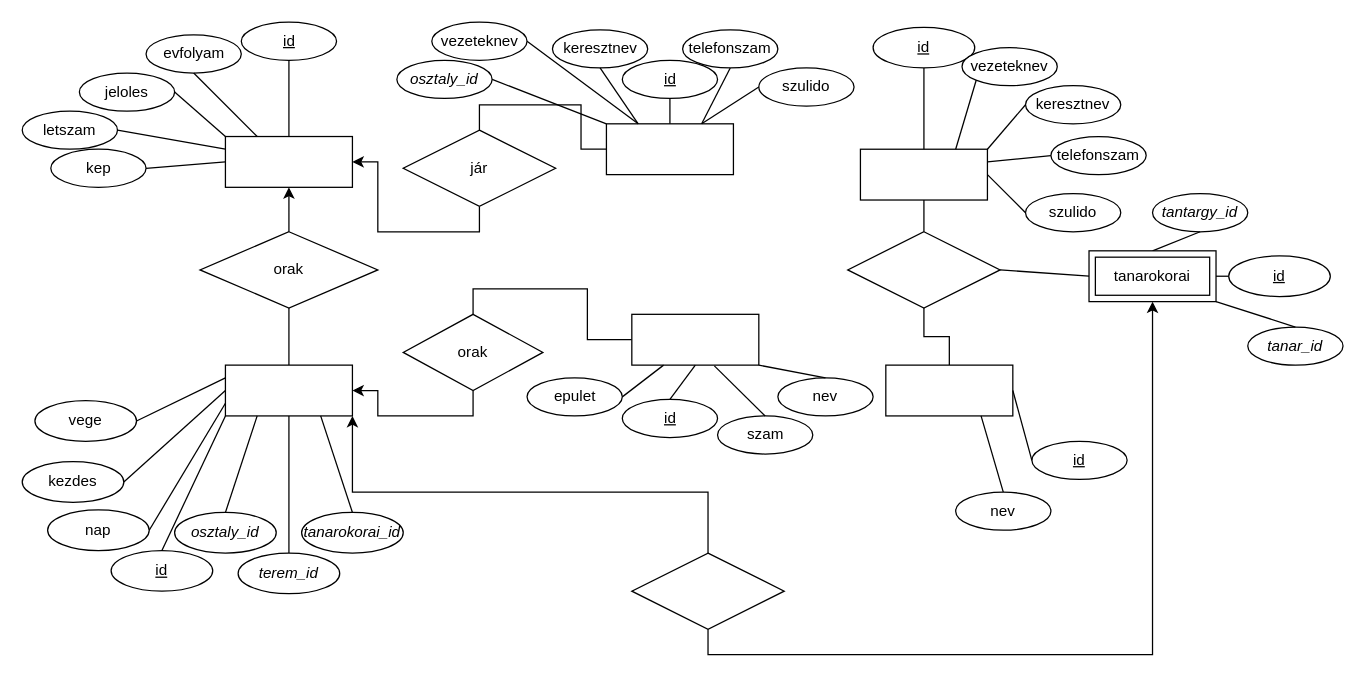
This 1365x687 diagram has some shape labels left out. The shapes that lost their labels are listed below. From the top down, each one's centre as x and y in pixels, then its label:
At (288,161): "osztalyok".
At (669,149): "tanulok".
At (923,174): "tanarok".
At (923,269): "Tanít".
At (695,339): "termek".
At (288,390): "orarend".
At (949,390): "tantargyak".
At (707,590): "Tartalmaz".
